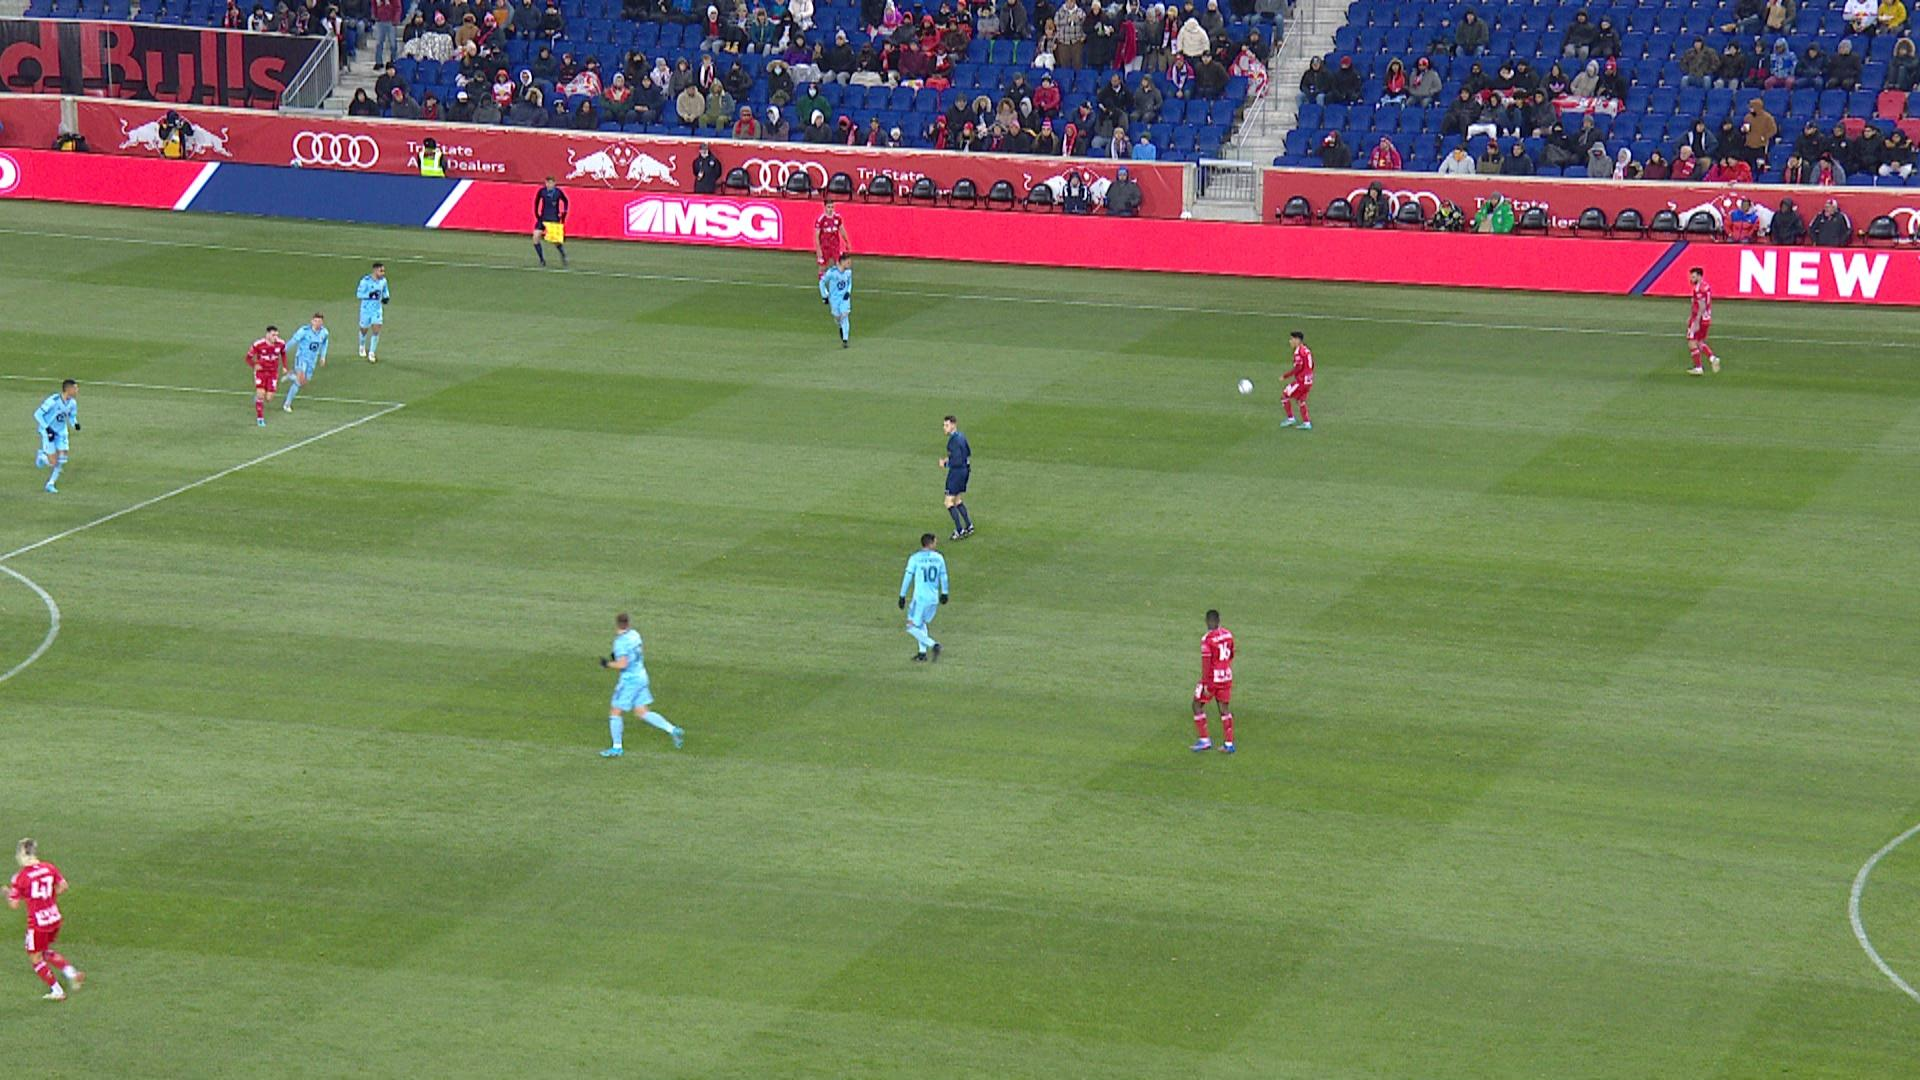football: (1237, 380, 1254, 394)
